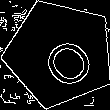O_NW: (26, 20, 93, 87)
